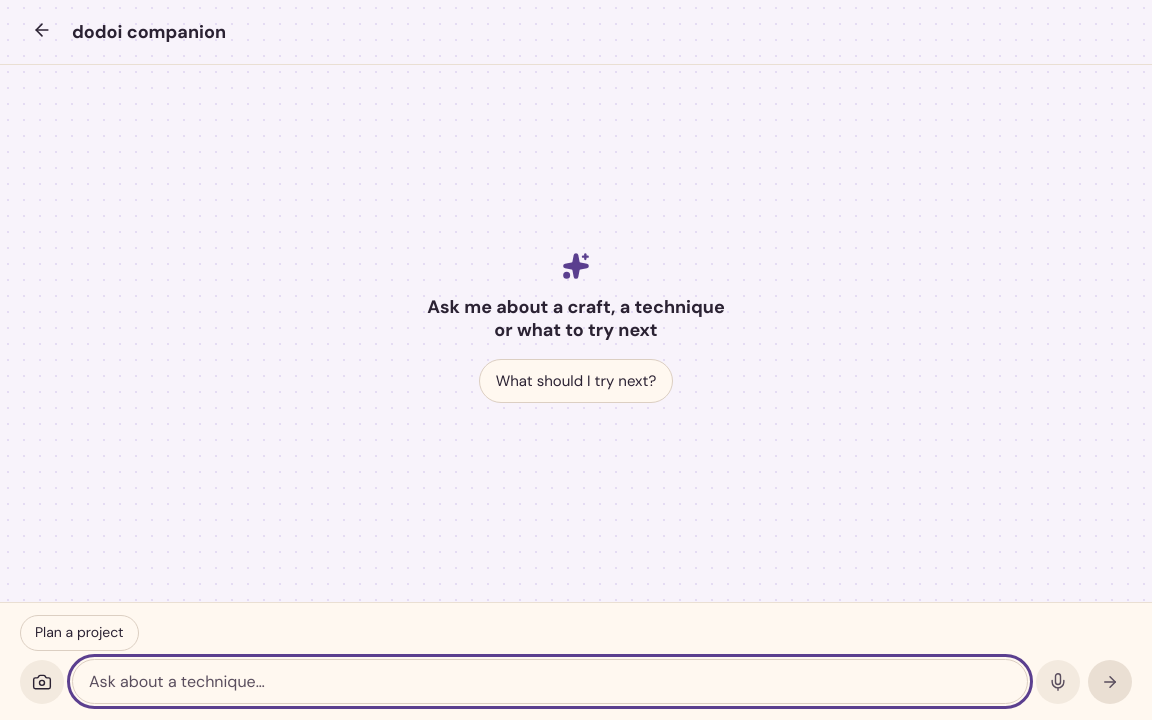
ChatPanel › sends a question, shows the answer with its AI label and a note, and keeps the field focused
Type "How do I start?" into the text box named "Your question". click: coordinates (550, 681)
box: [72,659,1028,704]
Then press Enter
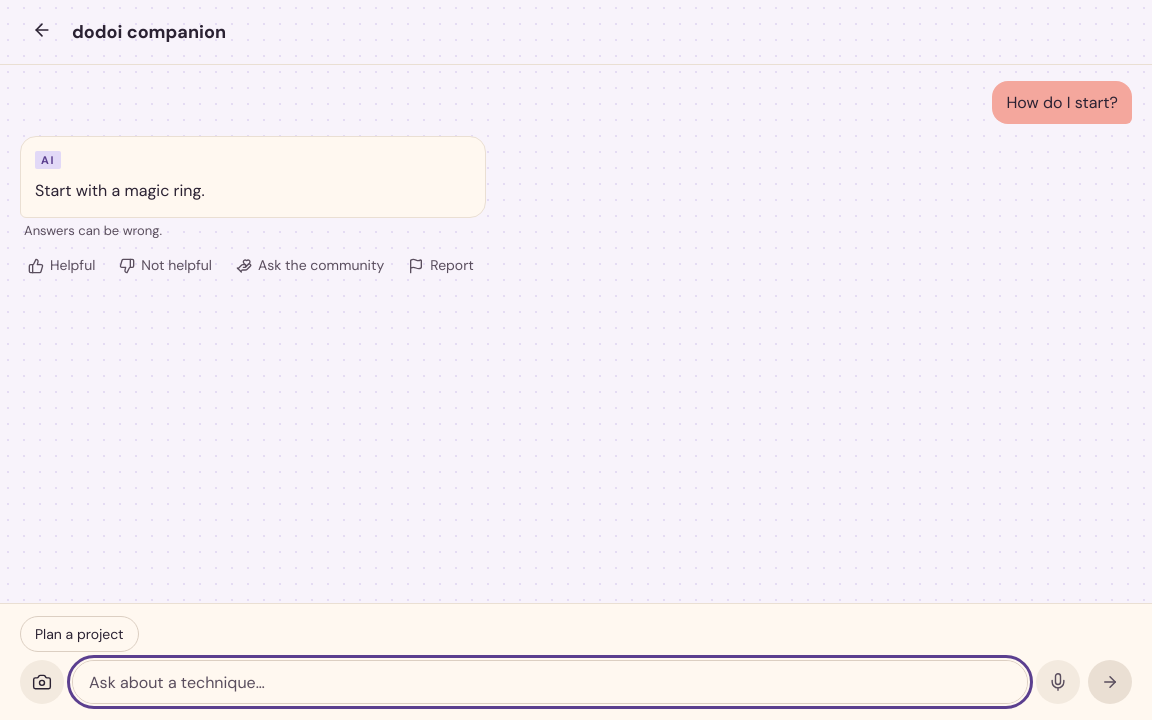
Result: the text "Start with a magic ring." is shown at [35,180,205,202]
Result: the text "AI" is shown at [35,151,61,170]
Result: the text "Answers can be wrong." is shown at [24,222,162,239]
